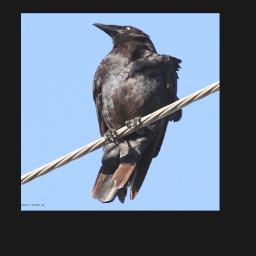Crow: (89, 21, 183, 204)
